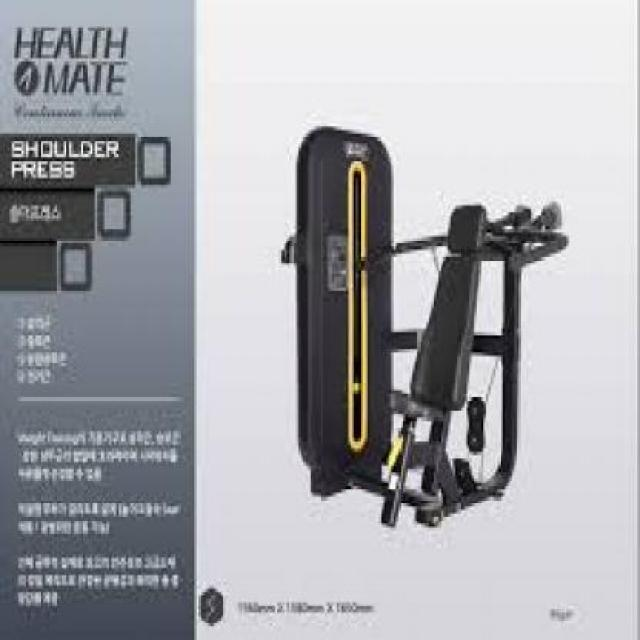shoulder press machine: (277, 111, 580, 552)
